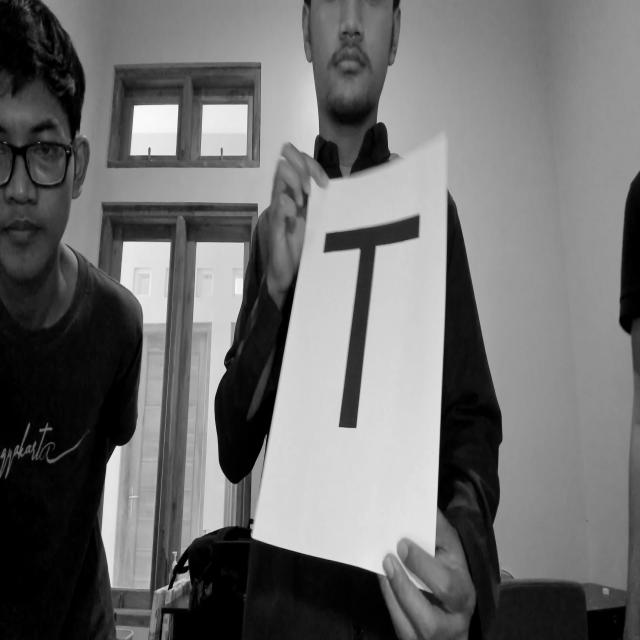t: (310, 211, 438, 438)
